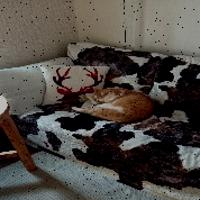asleep: (71, 86, 156, 122)
